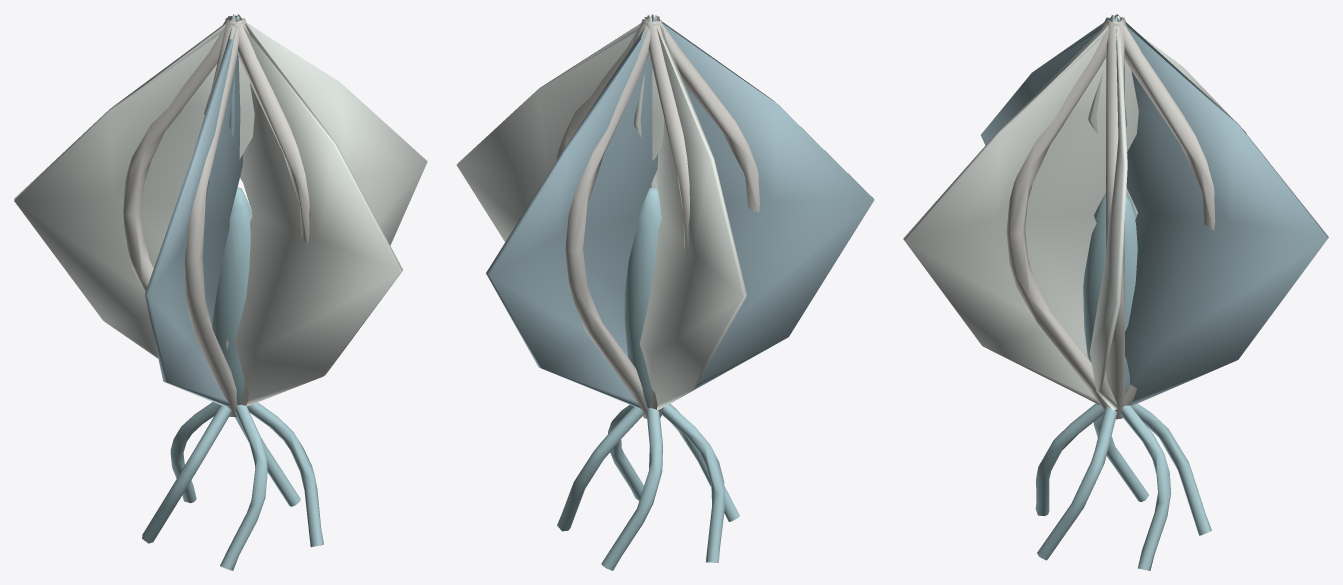
The model's file is bio_lantern_sail_08_far.glb.
The picture shows the model from 3 angles, left to right: view 1: azimuth 30°, elevation 25°; view 2: azimuth 150°, elevation 25°; view 3: azimuth 270°, elevation 25°; orthographic projection.
Parts seen in each view (by area): view 1: Ribbed sensory membrane.004, Ribbed sensory membrane.002, Ribbed sensory membrane.003, Ribbed sensory membrane, Membrane leading seam.003, Membrane leading seam.002, Buoyancy spindle, Membrane leading seam.004, Trailing electroreceptor.003, Trailing electroreceptor.004, Trailing electroreceptor.002, Trailing electroreceptor.001 (+1 smaller); view 2: Ribbed sensory membrane.001, Ribbed sensory membrane.003, Ribbed sensory membrane.002, Ribbed sensory membrane, Membrane leading seam.001, Buoyancy spindle, Membrane leading seam.003, Membrane leading seam.002, Trailing electroreceptor.001, Trailing electroreceptor.002, Trailing electroreceptor, Membrane leading seam (+2 smaller); view 3: Ribbed sensory membrane.001, Ribbed sensory membrane.004, Membrane leading seam.004, Ribbed sensory membrane, Membrane leading seam, Membrane leading seam.001, Buoyancy spindle, Trailing electroreceptor, Ribbed sensory membrane.003, Trailing electroreceptor.004, Trailing electroreceptor.001, Trailing electroreceptor.003 (+2 smaller).
Boxes of the visible parts, box(x1,y1,x2,y2) form: Ribbed sensory membrane.004: box(234, 14, 402, 406); Ribbed sensory membrane.002: box(14, 16, 254, 358); Ribbed sensory membrane.003: box(145, 16, 243, 407); Ribbed sensory membrane: box(203, 14, 427, 349); Membrane leading seam.003: box(184, 20, 241, 417); Membrane leading seam.002: box(123, 16, 231, 292); Buoyancy spindle: box(212, 187, 252, 404); Membrane leading seam.004: box(231, 18, 309, 415); Trailing electroreceptor.003: box(220, 404, 267, 570); Trailing electroreceptor.004: box(247, 402, 323, 547); Trailing electroreceptor.002: box(142, 405, 231, 543); Trailing electroreceptor.001: box(170, 402, 220, 503); Ribbed sensory membrane.001: box(486, 16, 657, 408); Ribbed sensory membrane.003: box(651, 14, 874, 399); Ribbed sensory membrane.002: box(639, 15, 746, 410); Ribbed sensory membrane: box(456, 16, 664, 241); Membrane leading seam.001: box(565, 19, 655, 418); Buoyancy spindle: box(624, 187, 661, 408); Membrane leading seam.003: box(655, 21, 759, 416); Membrane leading seam.002: box(644, 20, 689, 417); Trailing electroreceptor.001: box(601, 407, 662, 570); Trailing electroreceptor.002: box(661, 404, 724, 562); Trailing electroreceptor: box(557, 406, 643, 531); Membrane leading seam: box(556, 15, 648, 416); Ribbed sensory membrane.001: box(1116, 14, 1328, 406); Ribbed sensory membrane.004: box(903, 16, 1138, 405); Membrane leading seam.004: box(1006, 17, 1115, 410); Ribbed sensory membrane: box(1089, 16, 1127, 410); Membrane leading seam: box(1106, 22, 1124, 419); Membrane leading seam.001: box(1115, 17, 1215, 418); Buoyancy spindle: box(1083, 193, 1137, 395); Trailing electroreceptor: box(1120, 405, 1170, 570); Ribbed sensory membrane.003: box(981, 16, 1127, 214); Trailing electroreceptor.004: box(1037, 406, 1117, 560); Trailing electroreceptor.001: box(1131, 403, 1211, 535); Trailing electroreceptor.003: box(1035, 403, 1104, 516).
Bounding box in the file's own units: 2.14 × 3.02 × 2.24.
